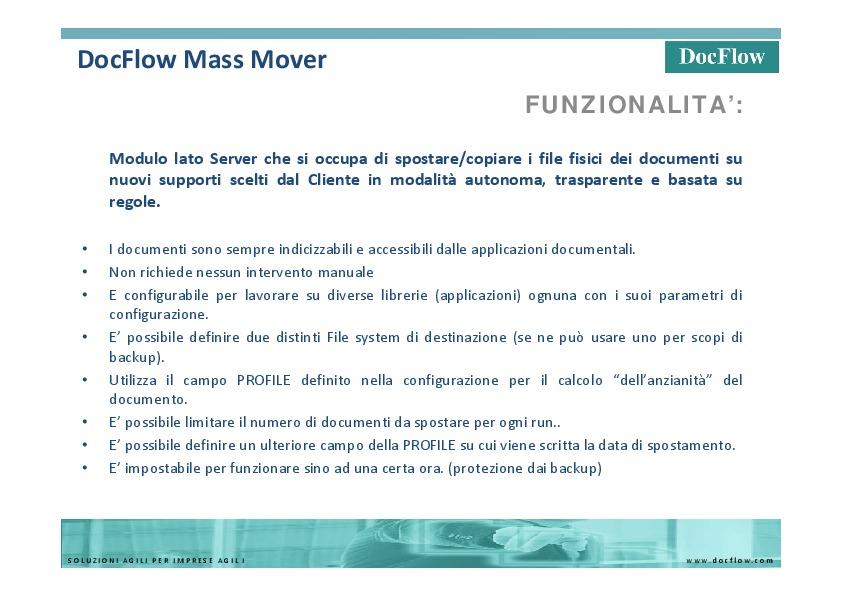paragraph: (70, 137, 781, 486)
title: (69, 39, 793, 120)
